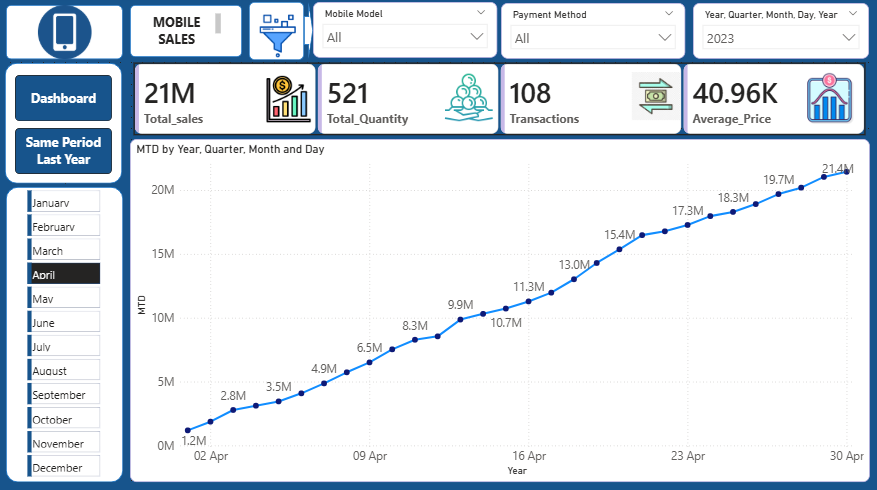

This screenshot's page, from the dashboard's own definition file:
{"tool":"powerbi","page":{"name":"MTD Report","canvas":[1280,720],"ordinal":1},"visuals":[{"type":"shape","box":[10.1,13.4,169.7,79],"z":0},{"type":"image","box":[11.8,13.4,168,79],"z":1000},{"type":"shape","box":[8.4,97.7,170.1,175.2],"z":2000},{"type":"slicer","fields":{"Values":["Mobile sales Data.Mobile Model"]},"box":[456.7,8.7,267.6,81.5],"z":3000},{"type":"shape","box":[363.6,8.7,80,84.4],"z":4000},{"type":"slicer","fields":{"Values":["Mobile sales Data.Payment Method"]},"box":[730.2,10.2,267.6,81.5],"z":5000},{"type":"cardVisual","fields":{"Data":["Mobile sales Data.Total_sales","Mobile sales Data.Total_Quantity","Mobile sales Data.Transactions","Mobile sales Data.Average_Price"]},"box":[190.3,90.9,1076.2,116.2],"z":6000},{"type":"slicer","fields":{"Values":["Custom Calender.Date.Variation.Date Hierarchy.Year","Custom Calender.Date.Variation.Date Hierarchy.Quarter","Custom Calender.Date.Variation.Date Hierarchy.Month","Custom Calender.Date.Variation.Date Hierarchy.Day","Custom Calender.Date.Variation.Date Hierarchy.Year"]},"box":[1009.5,10.2,256,81.5],"z":7000},{"type":"image","box":[375.3,114.9,91.6,69.8],"z":8000},{"type":"image","box":[353.5,26.2,103.3,64],"z":9000},{"type":"image","box":[913.5,110.5,84.4,69.8],"z":10000},{"type":"image","box":[1163.6,110.5,90.2,77.1],"z":11000},{"type":"image","box":[644.4,110.5,78.5,74.2],"z":12000},{"type":"shape","box":[443.6,8.7,13.1,82.9],"z":13000},{"type":"shape","box":[190.5,13.1,162.9,75.6],"z":14000},{"type":"textbox","box":[203.6,20.4,123.6,64],"z":15000},{"type":"lineChart","fields":{"Category":["Custom Calender.Date.Variation.Date Hierarchy.Year","Custom Calender.Date.Variation.Date Hierarchy.Quarter","Custom Calender.Date.Variation.Date Hierarchy.Month","Custom Calender.Date.Variation.Date Hierarchy.Day"],"Y":["Mobile sales Data.MTD"]},"box":[190.5,208,1076.4,498.9],"z":16000},{"type":"shape","box":[9.9,277.8,170.1,429.4],"z":17000},{"type":"advancedSlicerVisual","fields":{"Values":["Custom Calender.Date.Variation.Date Hierarchy.Month"]},"box":[36.9,277.8,116.2,429.4],"z":18000},{"type":"pageNavigator","box":[23.3,114.9,141.1,145.5],"z":19000}]}

Visuals, with their boxes in screenshot pixels (x1, y1, x2, y2), scaled from the page's 1280x720 canvas onto the 877x490 screenshot:
shape: {"x1": 7, "y1": 9, "x2": 123, "y2": 63}
image: {"x1": 8, "y1": 9, "x2": 123, "y2": 63}
shape: {"x1": 6, "y1": 66, "x2": 122, "y2": 186}
slicer - Mobile sales Data.Mobile Model: {"x1": 313, "y1": 6, "x2": 496, "y2": 61}
shape: {"x1": 249, "y1": 6, "x2": 304, "y2": 63}
slicer - Mobile sales Data.Payment Method: {"x1": 500, "y1": 7, "x2": 684, "y2": 62}
cardVisual - Mobile sales Data.Total_sales x Mobile sales Data.Total_Quantity: {"x1": 130, "y1": 62, "x2": 868, "y2": 141}
slicer - Custom Calender.Date.Variation.Date Hierarchy.Year x Custom Calender.Date.Variation.Date Hierarchy.Quarter: {"x1": 692, "y1": 7, "x2": 867, "y2": 62}
image: {"x1": 257, "y1": 78, "x2": 320, "y2": 126}
image: {"x1": 242, "y1": 18, "x2": 313, "y2": 61}
image: {"x1": 626, "y1": 75, "x2": 684, "y2": 123}
image: {"x1": 797, "y1": 75, "x2": 859, "y2": 128}
image: {"x1": 442, "y1": 75, "x2": 495, "y2": 126}
shape: {"x1": 304, "y1": 6, "x2": 313, "y2": 62}
shape: {"x1": 131, "y1": 9, "x2": 242, "y2": 60}
textbox: {"x1": 139, "y1": 14, "x2": 224, "y2": 57}
lineChart - Custom Calender.Date.Variation.Date Hierarchy.Year x Custom Calender.Date.Variation.Date Hierarchy.Quarter: {"x1": 131, "y1": 142, "x2": 868, "y2": 481}
shape: {"x1": 7, "y1": 189, "x2": 123, "y2": 481}
advancedSlicerVisual - Custom Calender.Date.Variation.Date Hierarchy.Month: {"x1": 25, "y1": 189, "x2": 105, "y2": 481}
pageNavigator: {"x1": 16, "y1": 78, "x2": 113, "y2": 177}
